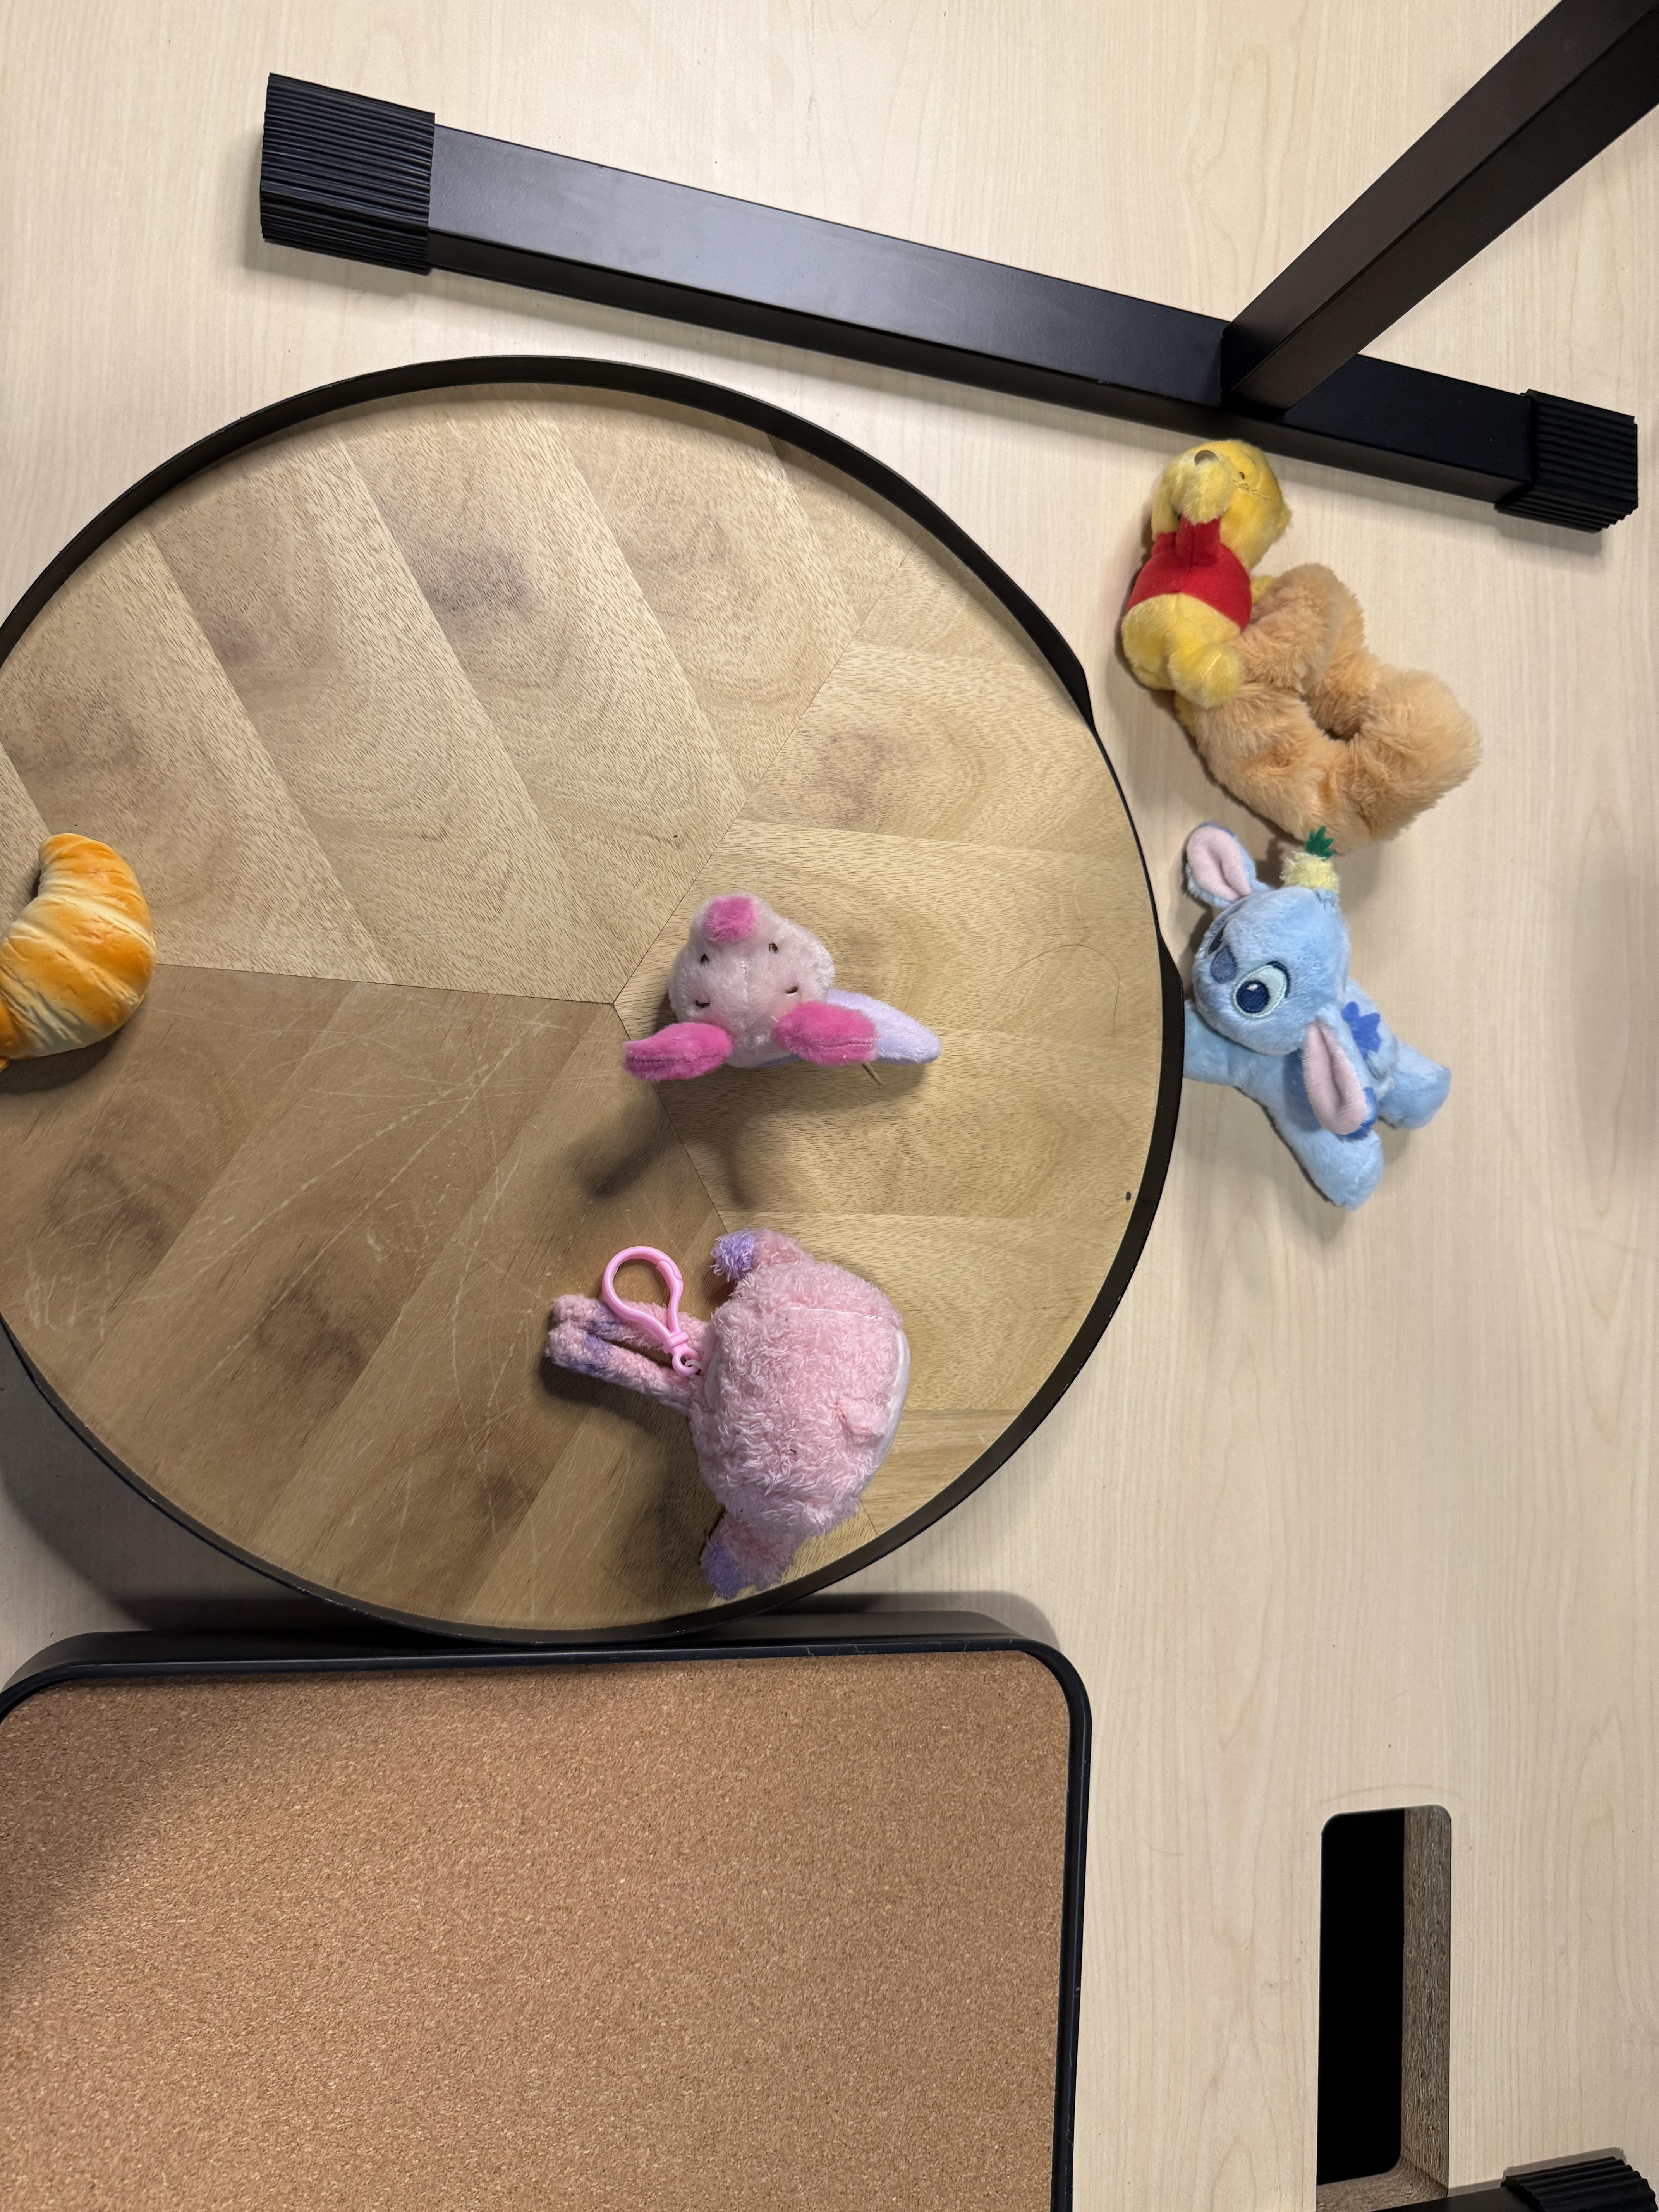bread: (0, 829, 162, 1075)
doll: (1127, 437, 1481, 850), (545, 1224, 915, 1585), (1168, 817, 1455, 1212), (627, 887, 946, 1087)
